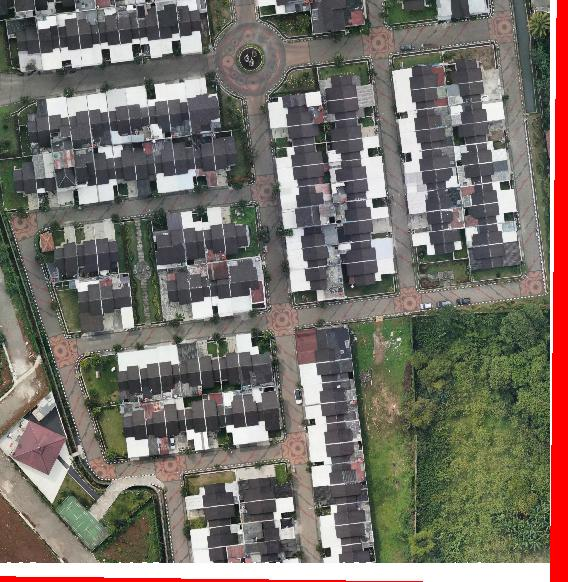building: (9, 419, 73, 504), (296, 325, 351, 365), (267, 91, 324, 129), (236, 333, 274, 389), (236, 465, 292, 502), (227, 257, 264, 313), (185, 78, 221, 135), (243, 388, 280, 443), (157, 266, 193, 322), (289, 265, 345, 301), (69, 277, 104, 333), (152, 213, 186, 270), (99, 274, 134, 329), (7, 17, 42, 71), (310, 0, 364, 33), (176, 0, 207, 54), (468, 241, 522, 271), (407, 187, 462, 215), (329, 156, 384, 183), (404, 167, 459, 194), (447, 78, 502, 105), (392, 65, 445, 93), (187, 264, 213, 321), (125, 85, 151, 142), (106, 88, 132, 145), (77, 10, 103, 67), (185, 483, 239, 510), (299, 359, 353, 386), (152, 139, 179, 193), (319, 75, 373, 102), (400, 126, 454, 153), (56, 12, 82, 68), (395, 86, 448, 113), (311, 461, 366, 487), (123, 403, 149, 458), (86, 92, 112, 147), (46, 97, 72, 152), (450, 99, 505, 125), (136, 3, 162, 58), (74, 148, 99, 205), (240, 497, 294, 523), (320, 522, 374, 548), (66, 95, 92, 149), (332, 177, 386, 203), (404, 147, 456, 174), (463, 201, 517, 227), (144, 400, 169, 456), (208, 261, 233, 317), (27, 99, 52, 155), (190, 525, 243, 551), (285, 224, 338, 250), (282, 203, 335, 229), (279, 184, 332, 210), (321, 96, 374, 122), (337, 217, 390, 243), (398, 107, 451, 133), (223, 390, 248, 445), (157, 344, 182, 399), (166, 82, 191, 137), (339, 238, 394, 263), (97, 8, 122, 63), (346, 258, 395, 286), (202, 206, 226, 263), (328, 136, 380, 162), (466, 221, 518, 247), (461, 182, 515, 207), (37, 16, 62, 70), (53, 150, 77, 206), (133, 141, 157, 197), (333, 199, 389, 223), (458, 160, 509, 186), (308, 421, 361, 446), (303, 380, 356, 405), (117, 351, 142, 404), (177, 343, 202, 396), (181, 211, 206, 264), (287, 245, 340, 270), (313, 482, 368, 506), (156, 0, 180, 55), (117, 5, 140, 62), (243, 519, 295, 544), (137, 349, 162, 401), (412, 229, 462, 255), (309, 441, 363, 465), (454, 141, 508, 165), (94, 146, 117, 202), (320, 502, 371, 527), (450, 58, 499, 84), (164, 397, 188, 450), (277, 164, 329, 188), (305, 402, 359, 425), (47, 242, 78, 282), (148, 83, 170, 139), (185, 400, 209, 451), (245, 539, 297, 562), (276, 144, 323, 169), (457, 120, 504, 144), (173, 142, 196, 190), (437, 0, 490, 20), (323, 542, 373, 563), (194, 143, 217, 187), (212, 133, 238, 170), (33, 153, 56, 193), (113, 145, 136, 184), (223, 223, 250, 255), (203, 393, 226, 430), (427, 208, 464, 231), (77, 240, 99, 278), (255, 0, 310, 15), (12, 162, 37, 194), (96, 238, 120, 271), (32, 391, 57, 421), (219, 352, 241, 386), (330, 118, 362, 141), (204, 505, 236, 527), (288, 124, 320, 146), (199, 356, 220, 389), (193, 547, 228, 563), (15, 0, 35, 18), (227, 545, 245, 563), (35, 0, 56, 15), (400, 0, 426, 12), (40, 232, 55, 252), (531, 0, 550, 13), (75, 0, 95, 11), (55, 0, 75, 8), (96, 0, 115, 8), (115, 0, 135, 6), (136, 0, 146, 4), (156, 0, 169, 2), (309, 0, 310, 0)
